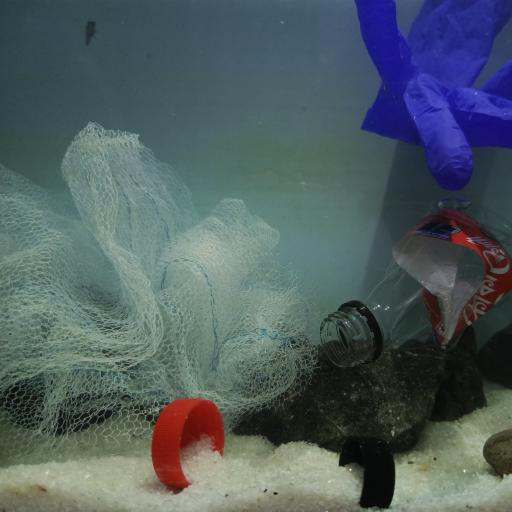bottle_cap: (154, 394, 224, 486), (339, 429, 398, 512)
glove: (354, 0, 512, 191)
net: (3, 119, 318, 452)
plastic_bottle: (320, 197, 512, 369)
